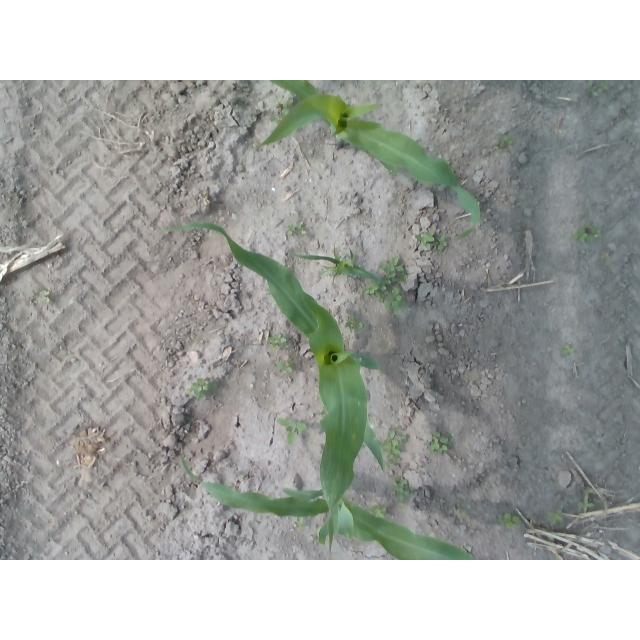Maize: (167, 222, 386, 555), (258, 80, 483, 237), (177, 450, 471, 560), (297, 248, 380, 283)
Weeds: (279, 418, 309, 444), (385, 429, 404, 459), (189, 377, 215, 396), (382, 256, 405, 276), (386, 285, 402, 311), (576, 222, 595, 243), (396, 478, 411, 502), (430, 434, 451, 451), (417, 229, 435, 248), (270, 334, 286, 350), (505, 513, 520, 530), (275, 359, 292, 373), (549, 508, 563, 525), (287, 221, 303, 235), (346, 319, 364, 330), (371, 505, 389, 516), (579, 497, 593, 511), (37, 290, 52, 302), (587, 82, 601, 94), (377, 280, 391, 291), (500, 136, 512, 148), (296, 518, 308, 530), (437, 235, 447, 249), (364, 285, 378, 295), (562, 340, 573, 352), (602, 81, 612, 91), (600, 249, 609, 258), (460, 508, 468, 516)
